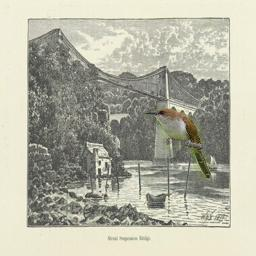Cuckoo: (144, 108, 211, 180)
